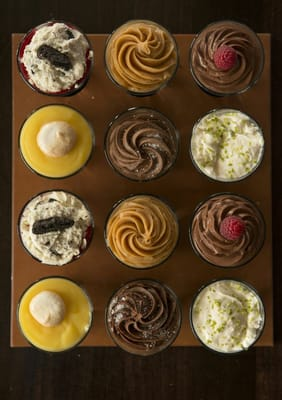sushi: (190, 278, 266, 355), (17, 277, 93, 353), (189, 108, 265, 183)
